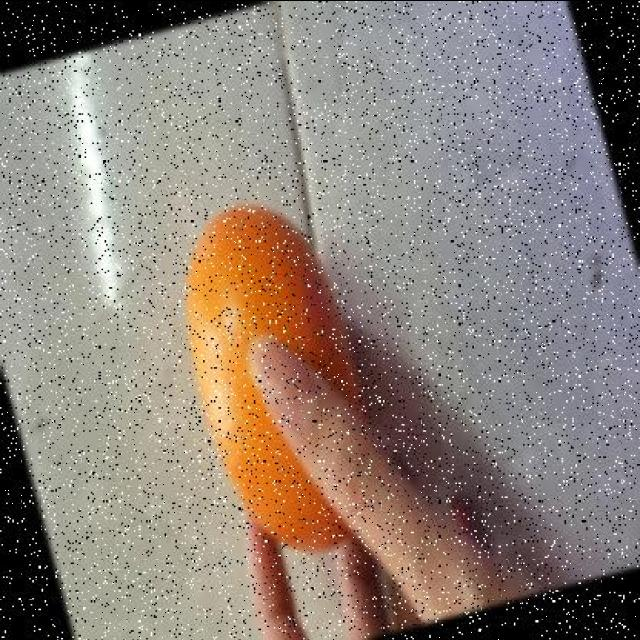Orange: (182, 202, 368, 556)
